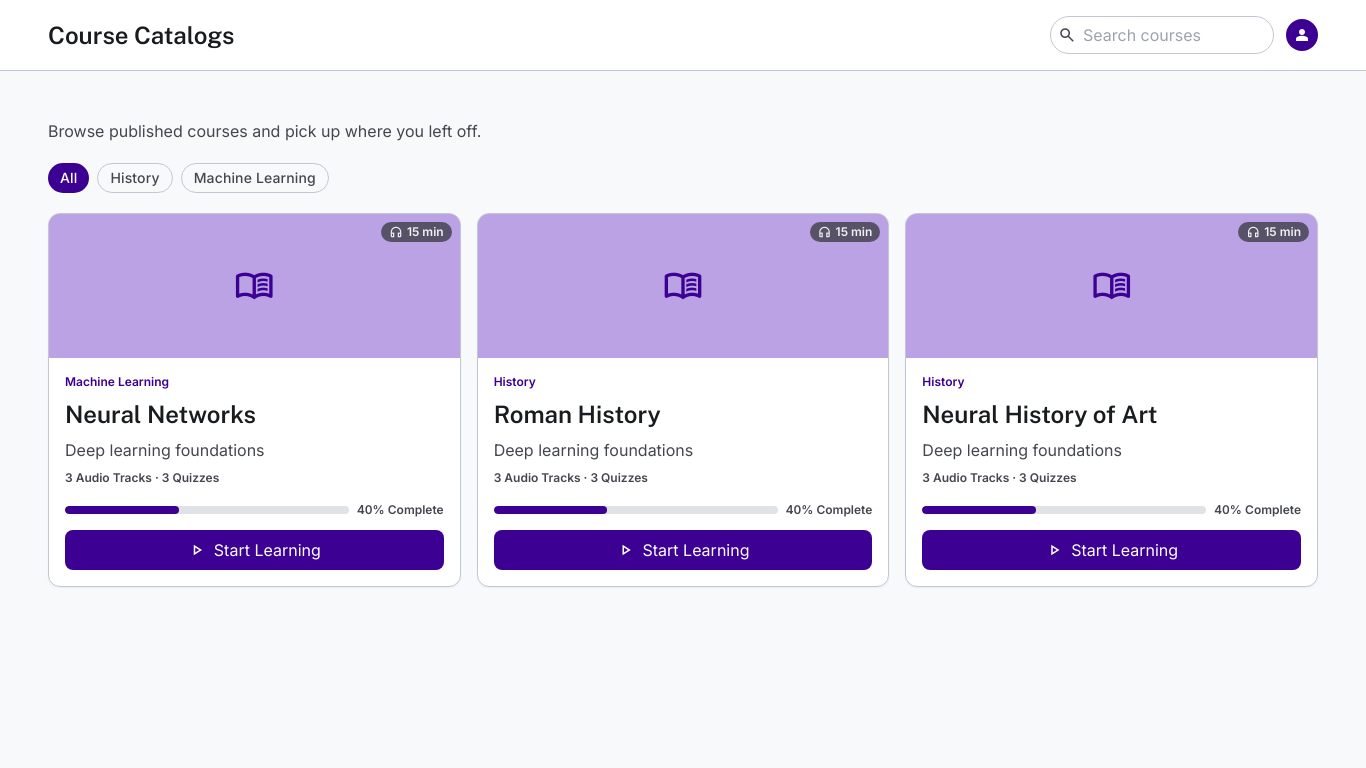
Test case: CatalogPage › filters by search and category together (AND)
Expected: the heading "Neural Networks" is shown, [65,400,256,428]
Type "neural" into the field labelled "Search courses" at x=1162, y=35, box [1050,16,1274,54]
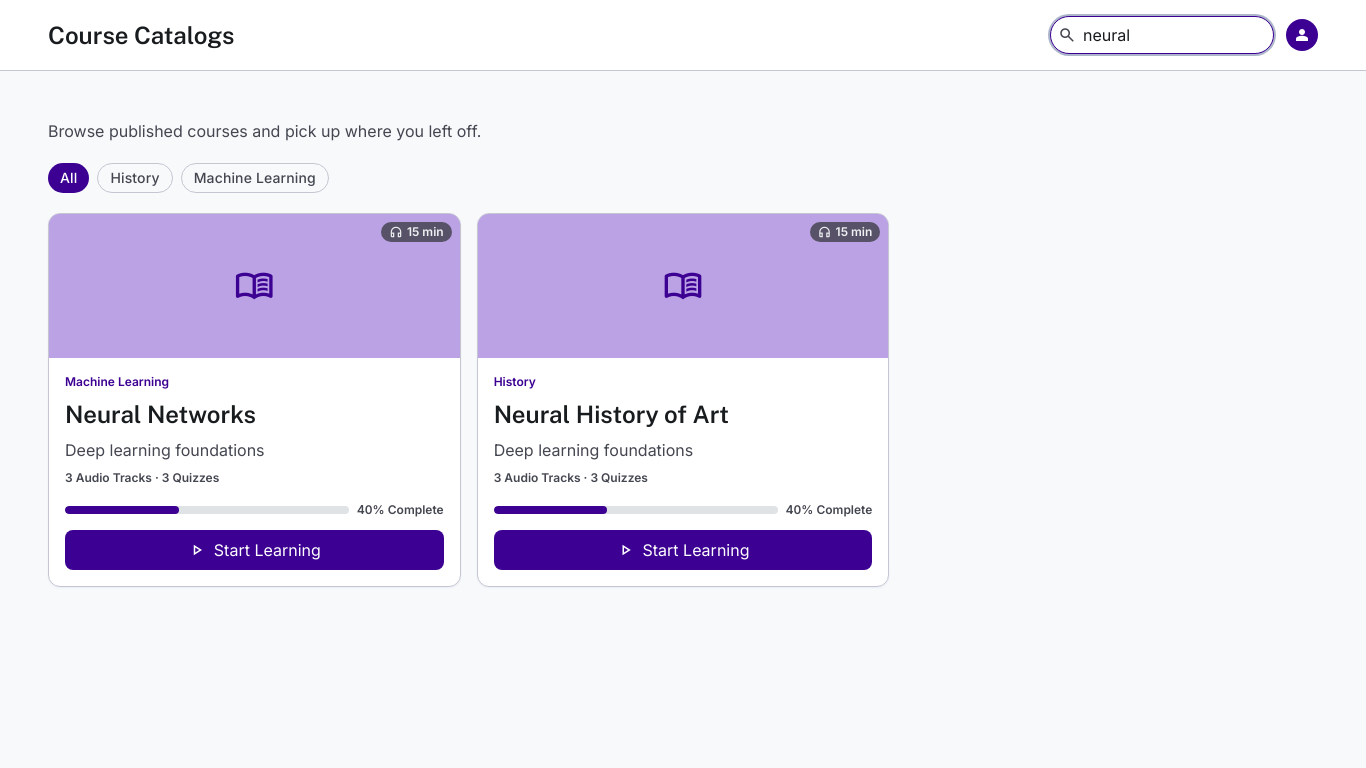
Result: the number of elements with test id "course-card" is 2 at [48,213,461,587]; [477,213,889,587]
Click the button "History" at x=135, y=178, box [97,163,173,193]
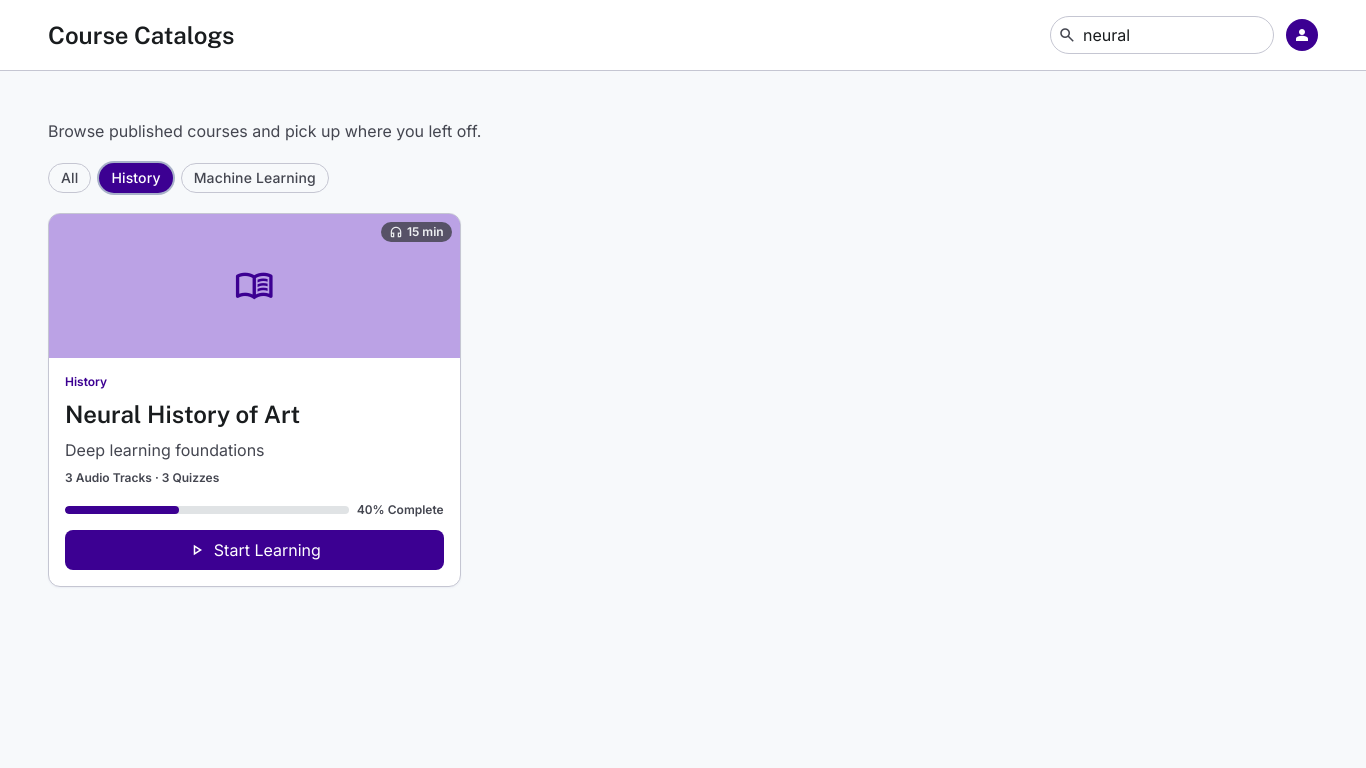
Expected: the heading "Neural History of Art" is shown, [65,400,300,428]
Result: the number of elements with test id "course-card" is 1 at [48,213,461,587]
